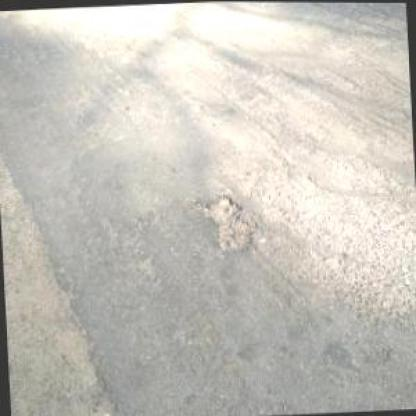pothole: (190, 190, 257, 255), (80, 24, 150, 70)
